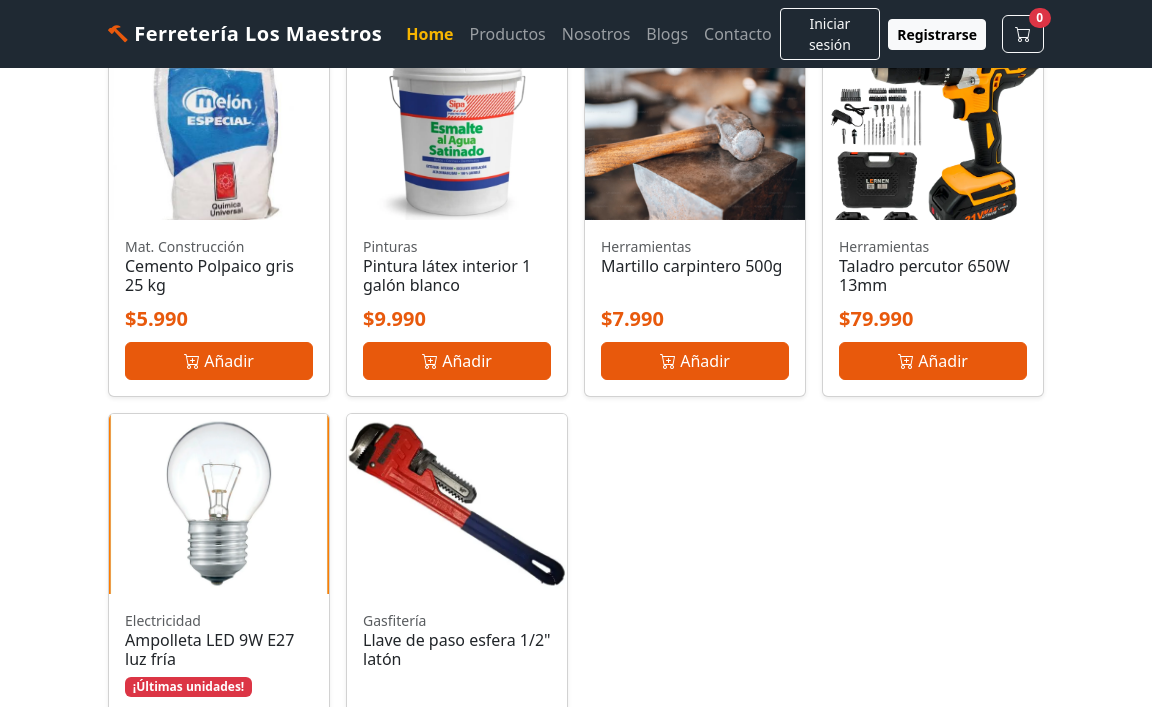
Test: App (integración) › añadir un producto actualiza el contador del Header y muestra el aviso
(page scrolled)
Expected: the text with test id "contador-carrito" reads "0", [1036,9,1043,26]
Click the button "Añadir" below "$5.990" at (219, 360), box [125,342,313,380]
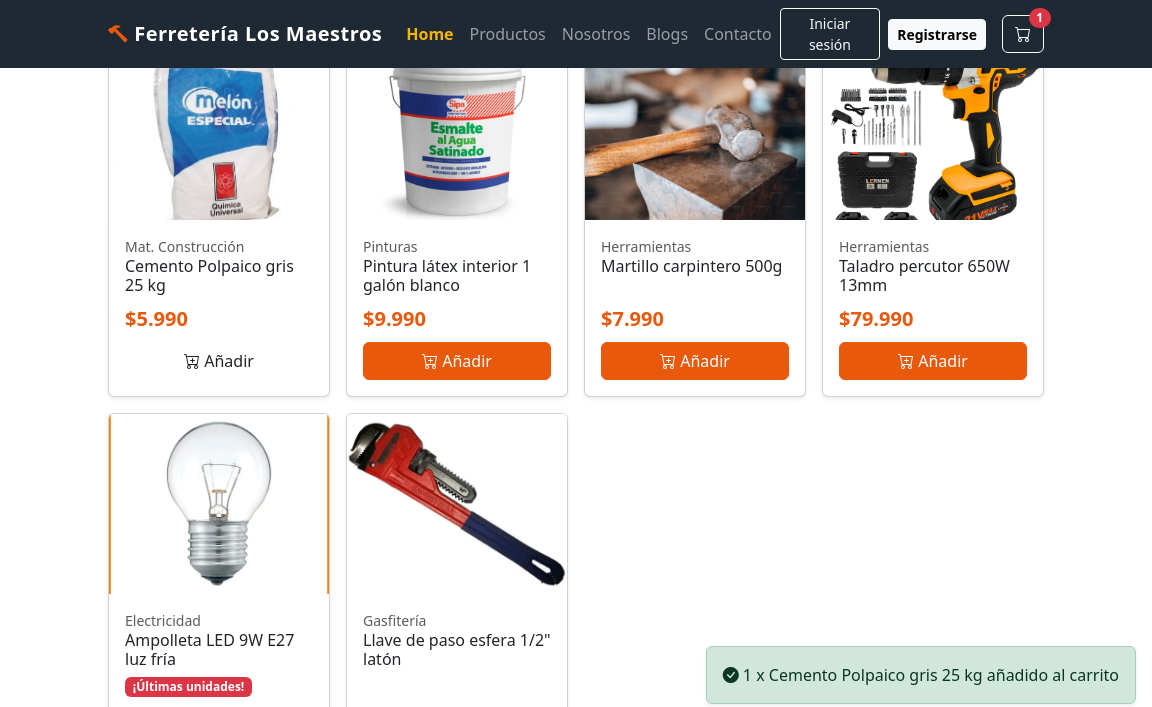
Click the button "Añadir" below "$9.990" at (457, 360), box [363,342,551,380]
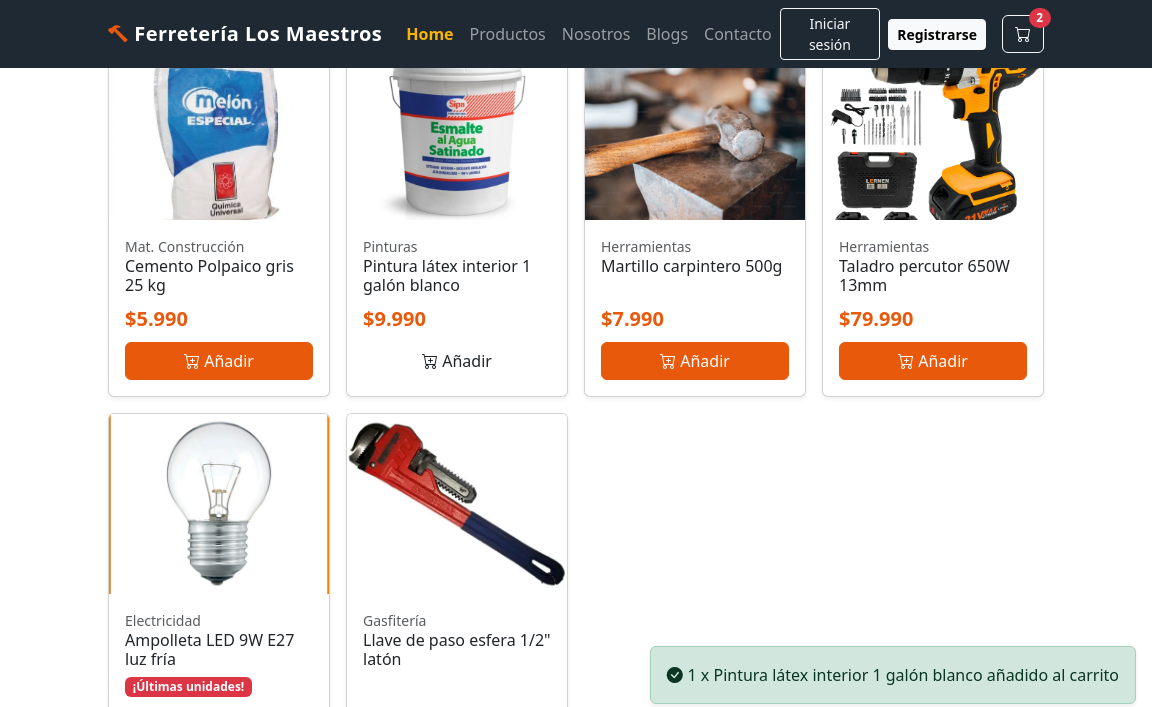
Now the message shows "añadido al carrito", box [688,664,1119,686]
Now the text with test id "contador-carrito" reads "2", box [1036,9,1043,26]
